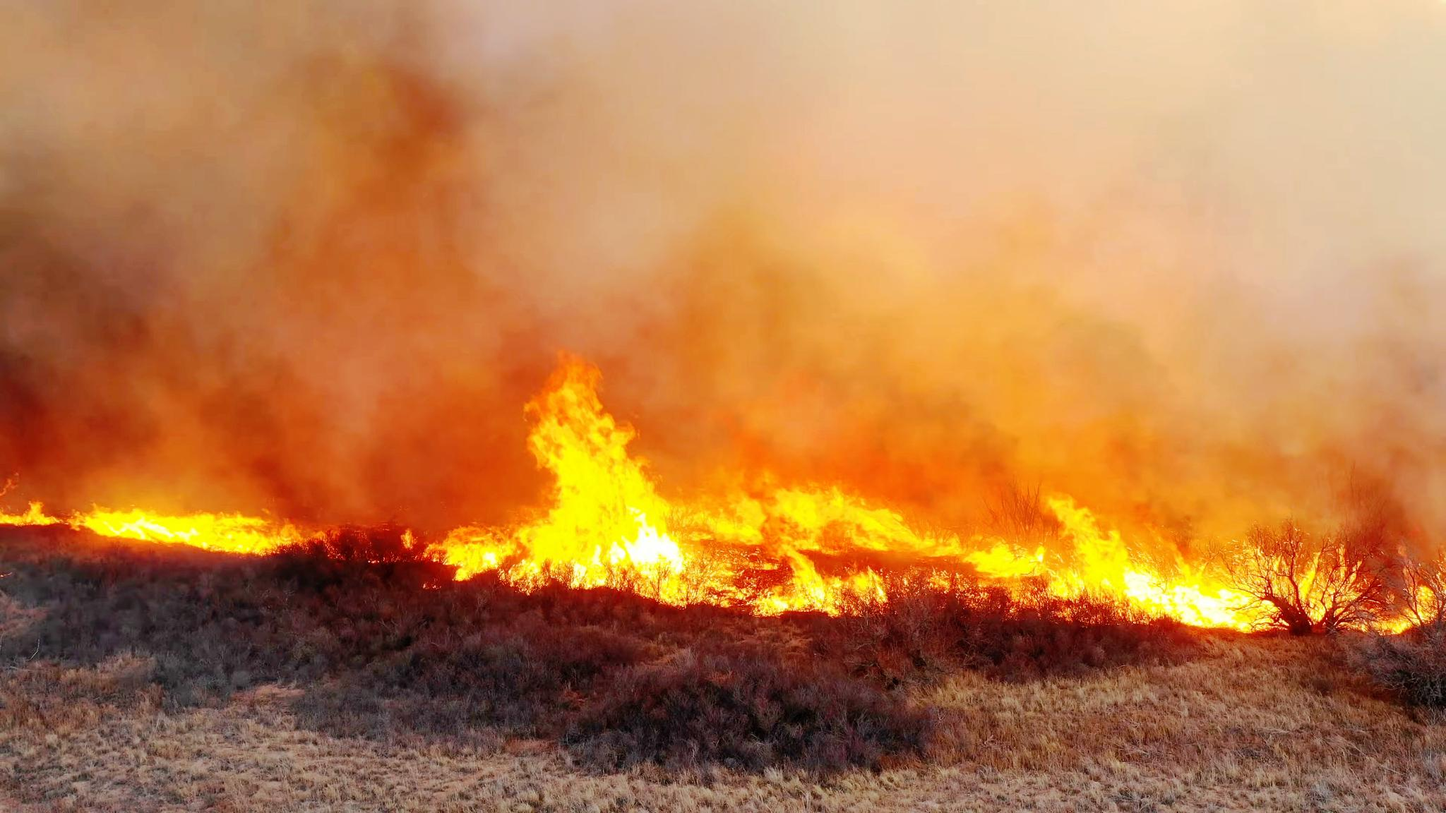fire: (659, 462, 1004, 622), (465, 366, 680, 606), (1037, 482, 1298, 640), (91, 480, 290, 559)
smoke: (0, 0, 395, 423)
